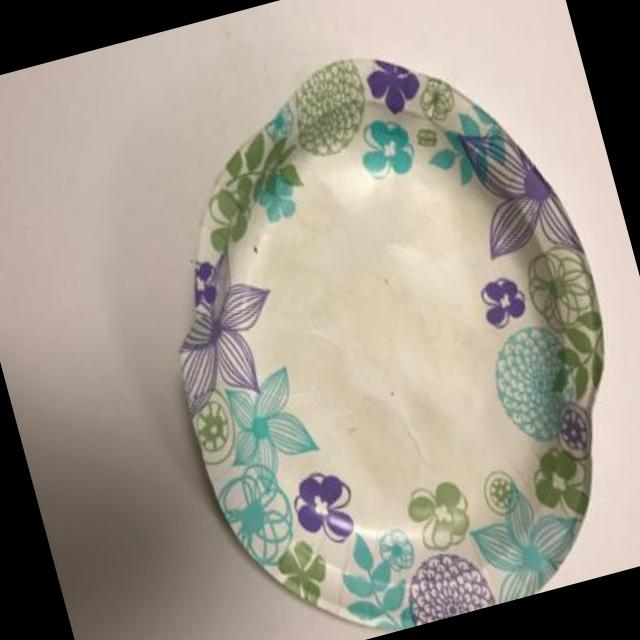giay: (176, 52, 606, 633)
